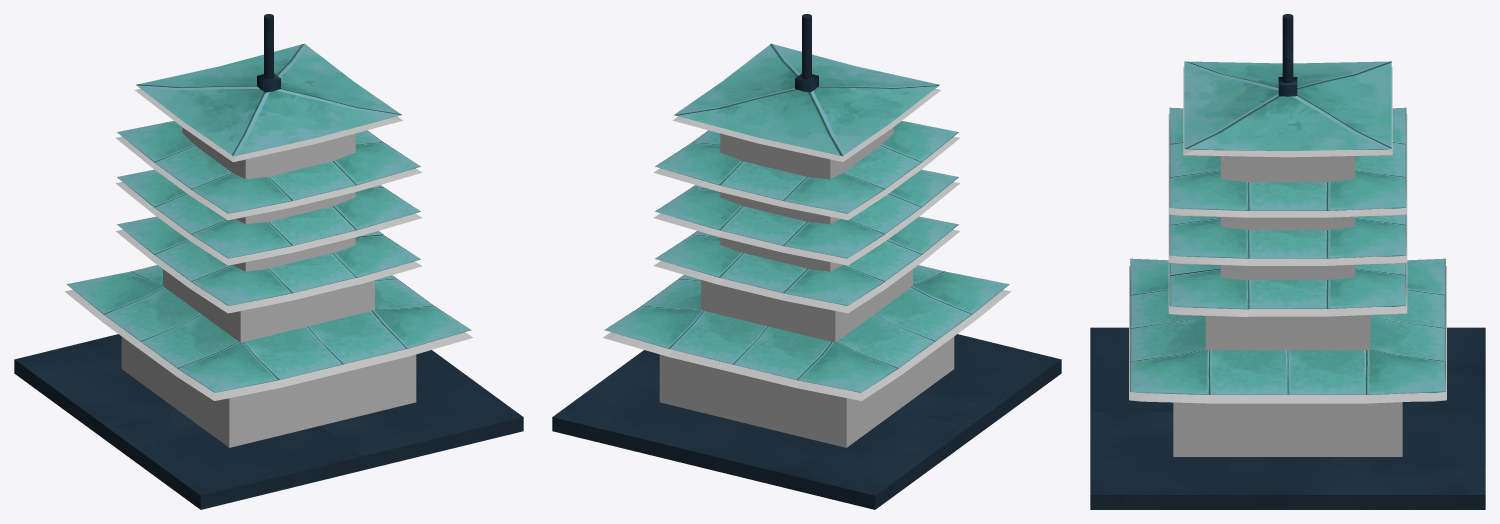
The model's file is pagoda (dark).fbx.
3 views of the same model, side by side, from view 1: azimuth 30°, elevation 25°; view 2: azimuth 150°, elevation 25°; view 3: azimuth 270°, elevation 25° (orthographic). The views are drawn at different scales.
Visible parts, largest first — view 1: roof variant 144; view 2: roof variant 144; view 3: roof variant 144.
Part boxes in pixels (bbox=[...]): roof variant 144: bbox=[14, 14, 523, 509]; roof variant 144: bbox=[552, 14, 1061, 509]; roof variant 144: bbox=[1090, 14, 1485, 509].
Bounding box in the file's own units: 78.74 × 90.07 × 78.74.
